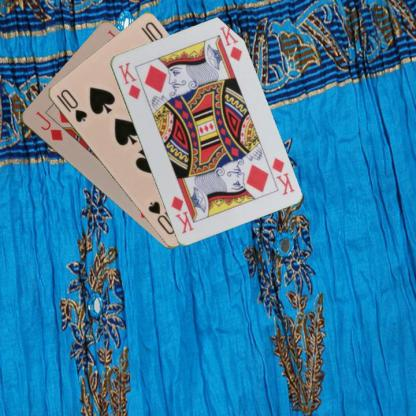10s: (53, 86, 89, 124)
Jd: (32, 108, 64, 142)
Kd: (268, 155, 296, 196), (115, 60, 142, 100)
